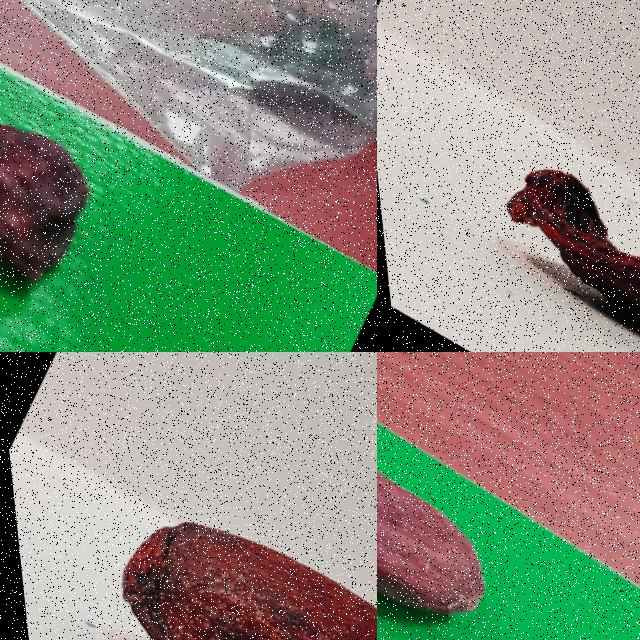Fine_cocoabeans: (2, 433, 376, 639), (377, 358, 587, 639)
Flat_cocoabeans: (0, 11, 168, 349), (409, 116, 639, 351)
